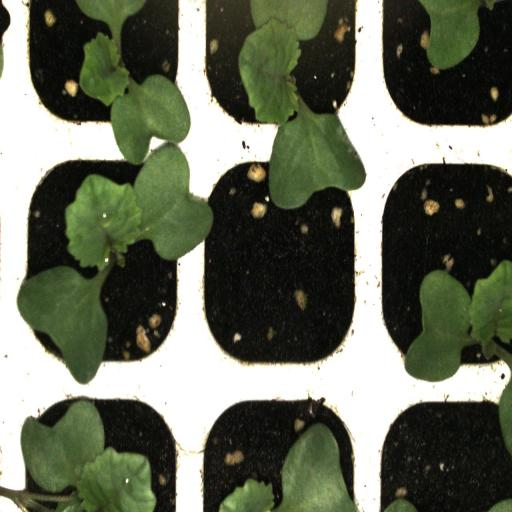Folha: (21, 399, 157, 512), (218, 423, 359, 512)
Germinacao: (11, 142, 195, 390), (370, 155, 512, 388), (14, 0, 196, 151), (193, 1, 370, 151)
